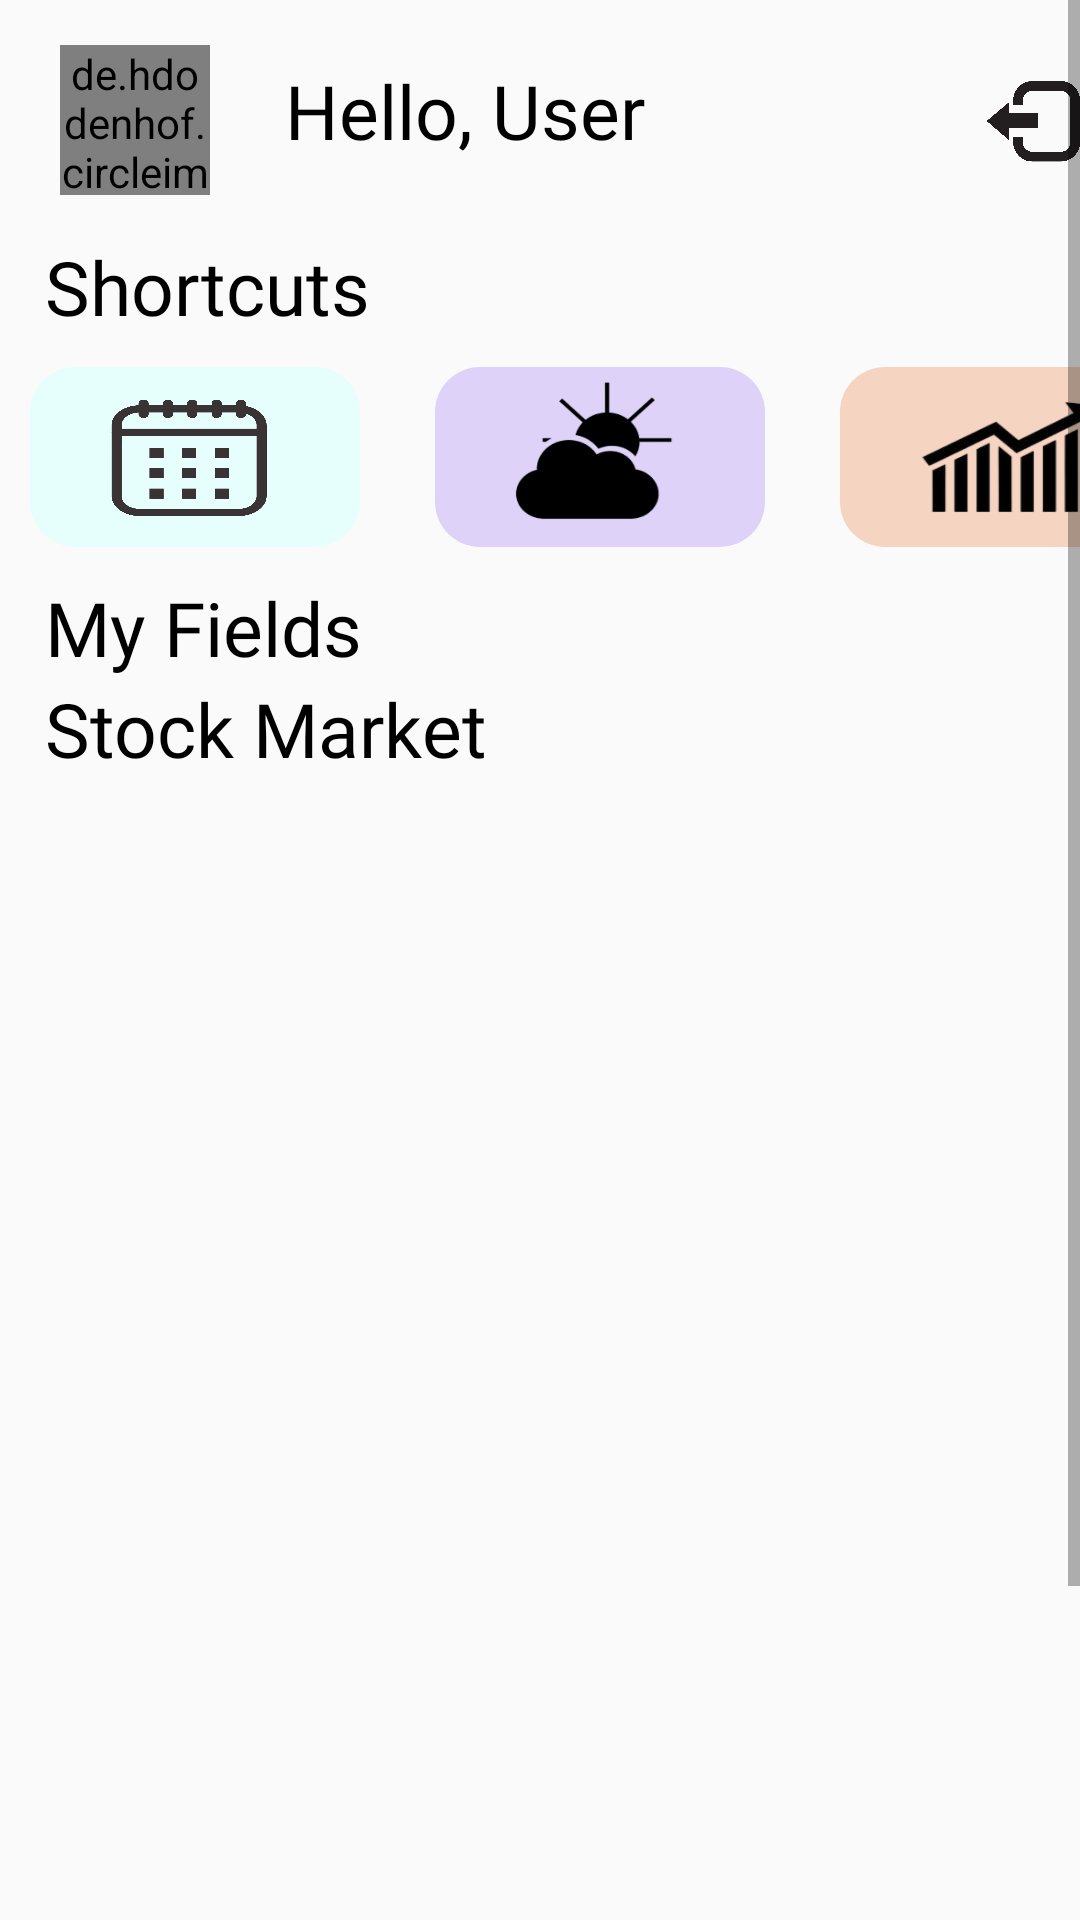

Named icons in this screenshot (1080*1920) and their bounding boxes, (x1, y1, x2, y2):
calendar: (111, 400, 267, 516)
weather: (516, 382, 672, 519)
